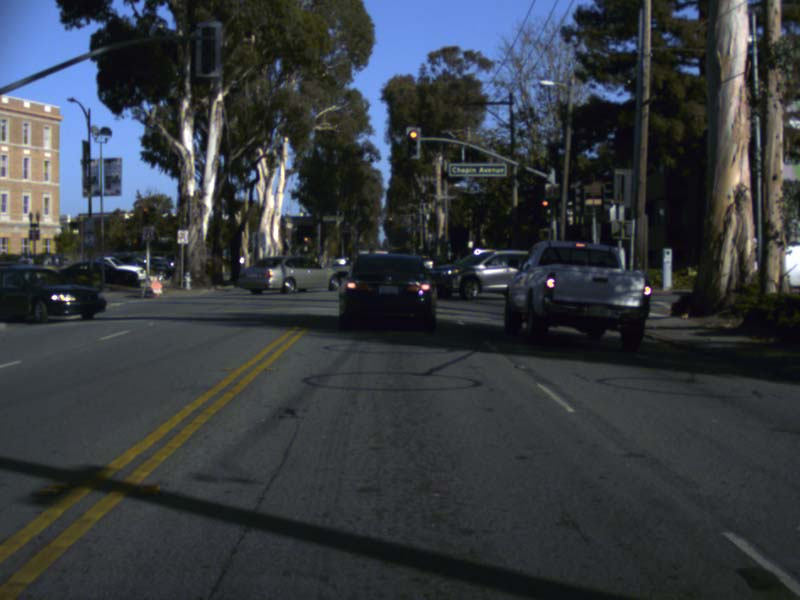Red: (405, 125, 420, 159), (540, 198, 549, 215), (142, 207, 148, 223), (386, 216, 393, 228), (302, 236, 307, 246)
